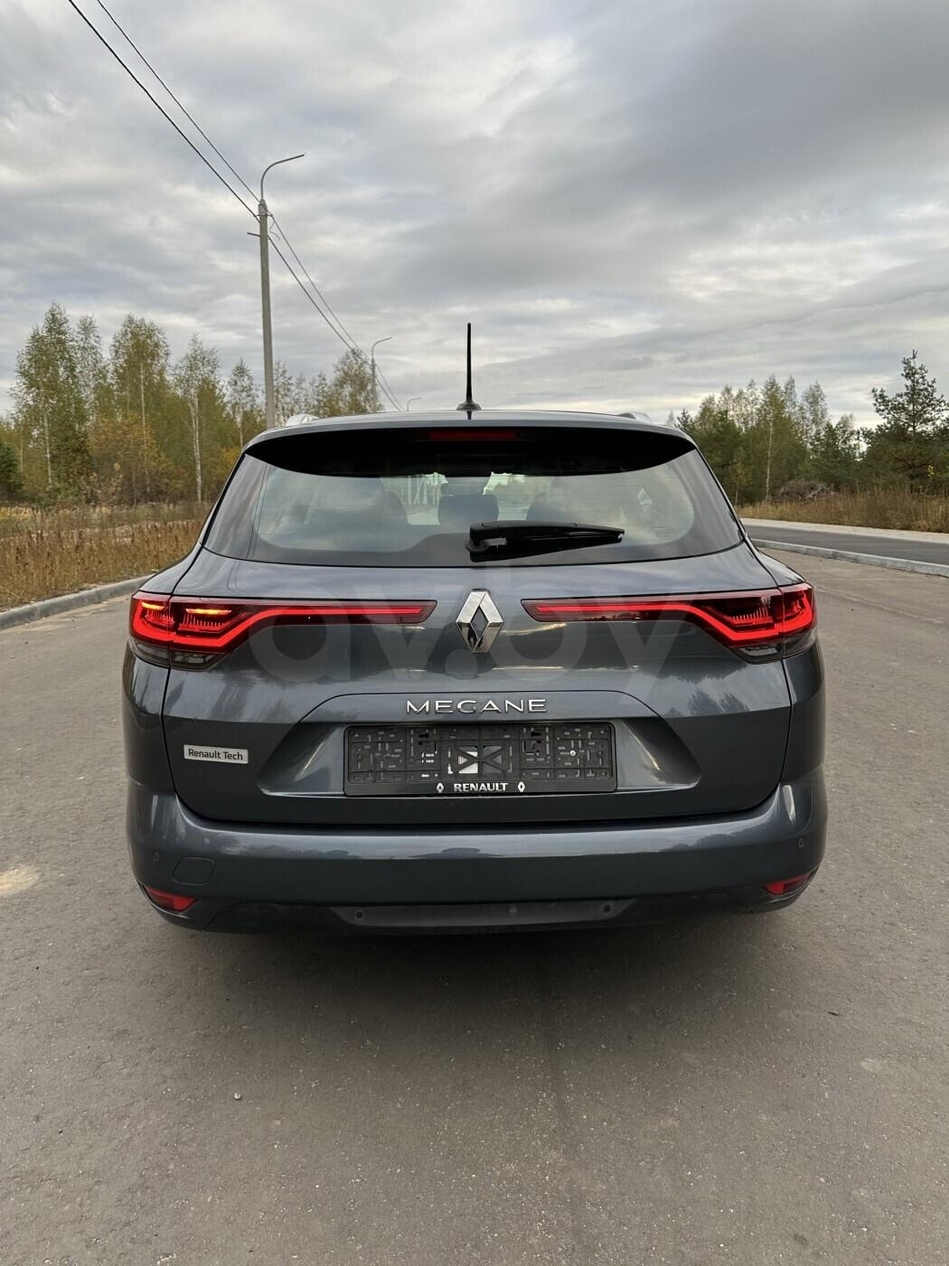Megane_2020: (117, 403, 833, 924)
